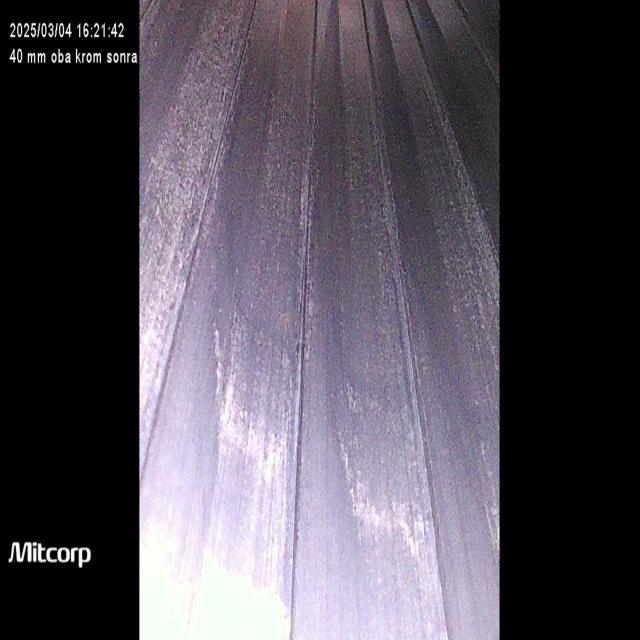hata_9.3: (324, 338, 450, 574), (207, 292, 308, 494)
